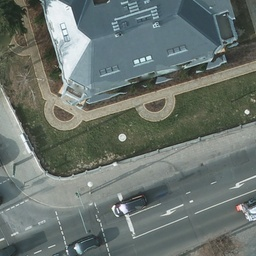car: (111, 194, 149, 215), (63, 234, 101, 255)
